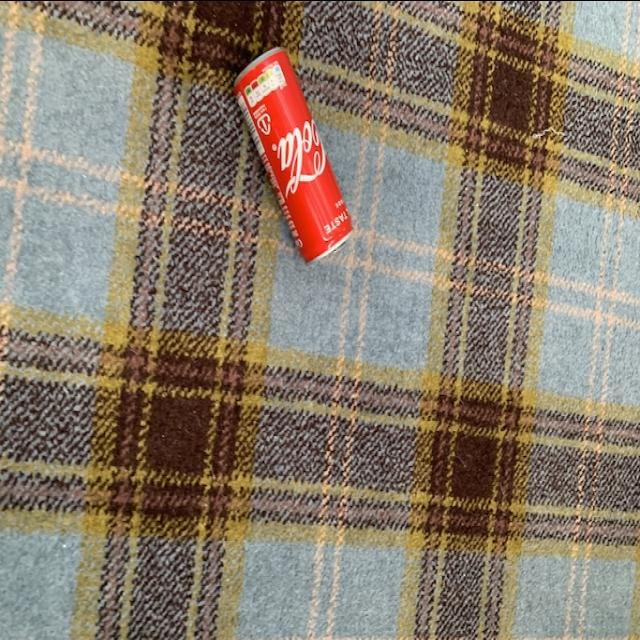litter: (232, 41, 354, 268)
